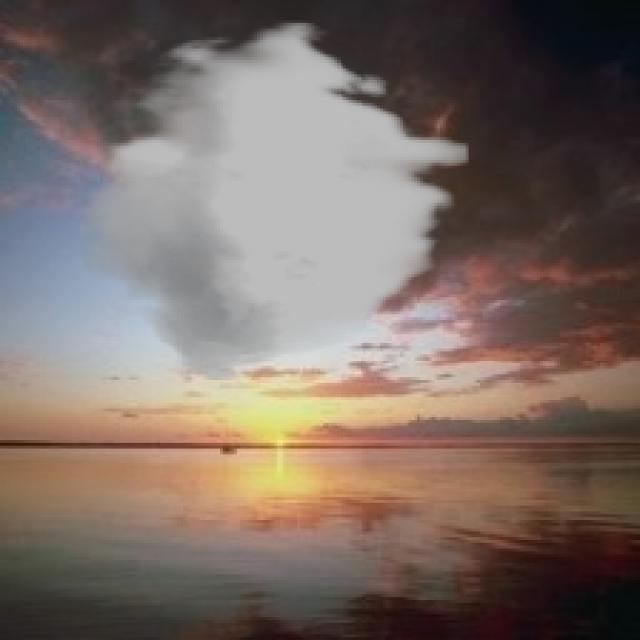Smoke: (80, 20, 469, 383)
